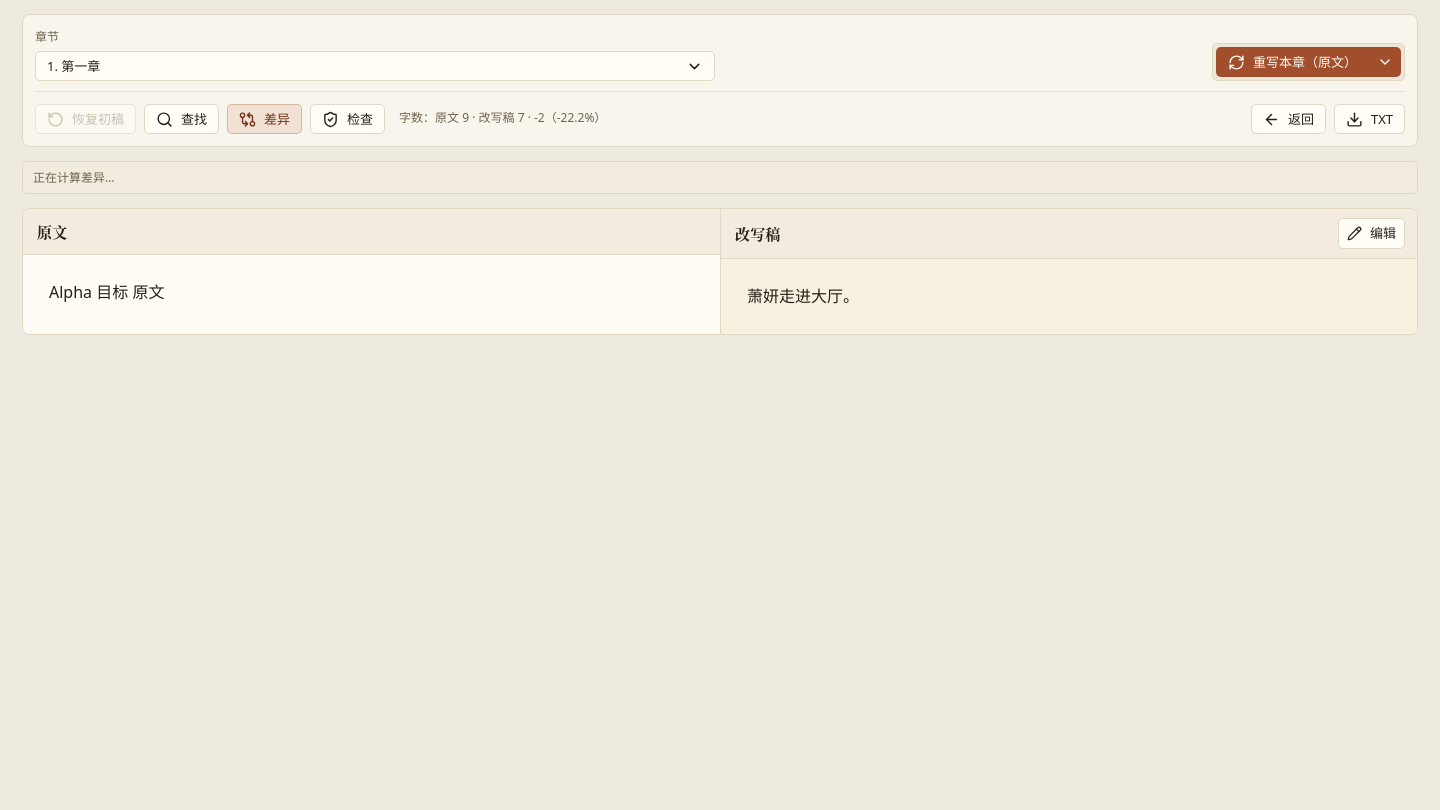
Test: CompareView › updates quality counts while editing the current rewrite
Expected: the button "检查" does not show "1", [310,104,385,134]
Click the button "编辑" at (1372,234), box [1338,218,1405,249]
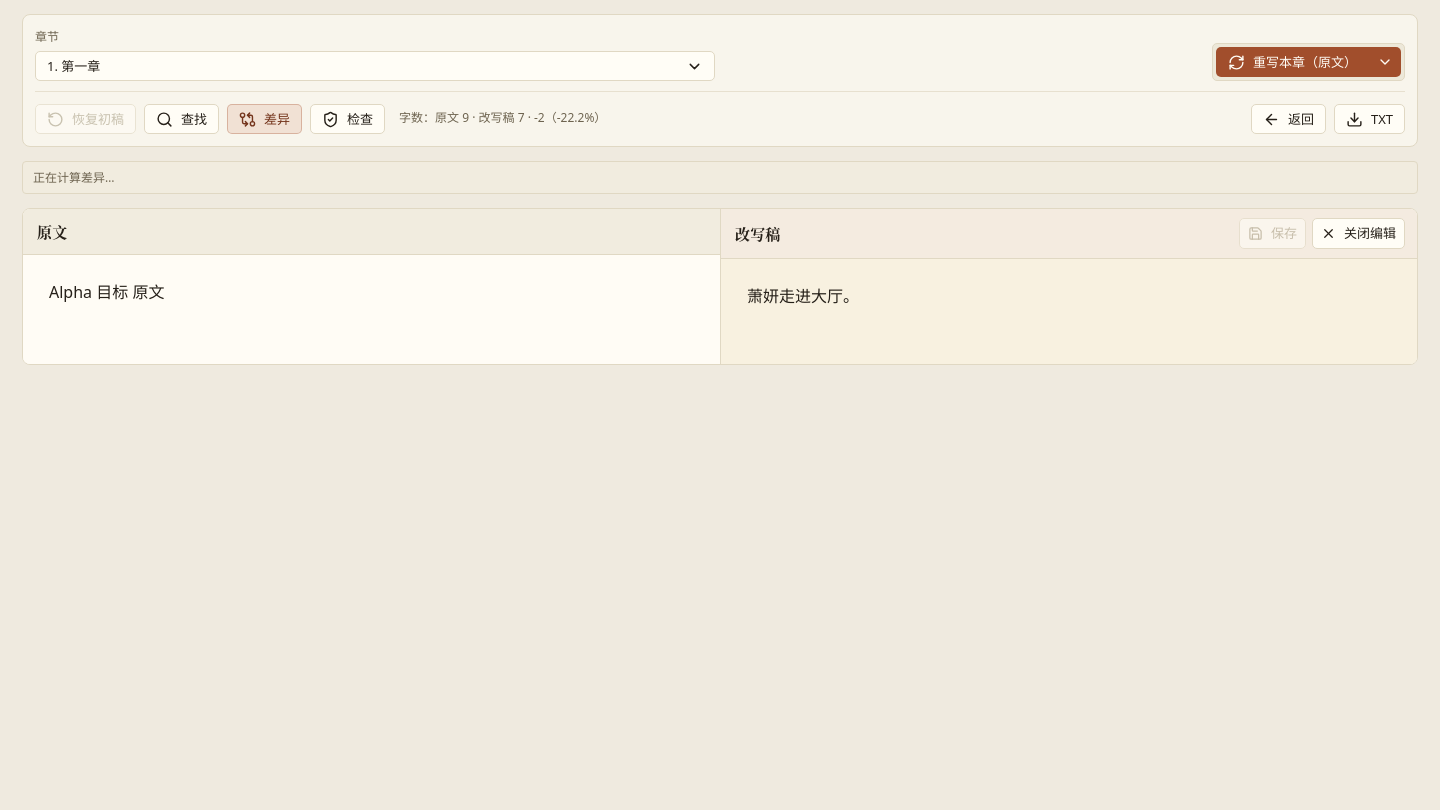
Replace the text in the text box named "编辑改写稿正文" with "萧炎仍然走进大厅。" at (1069,312), box [721,259,1417,364]
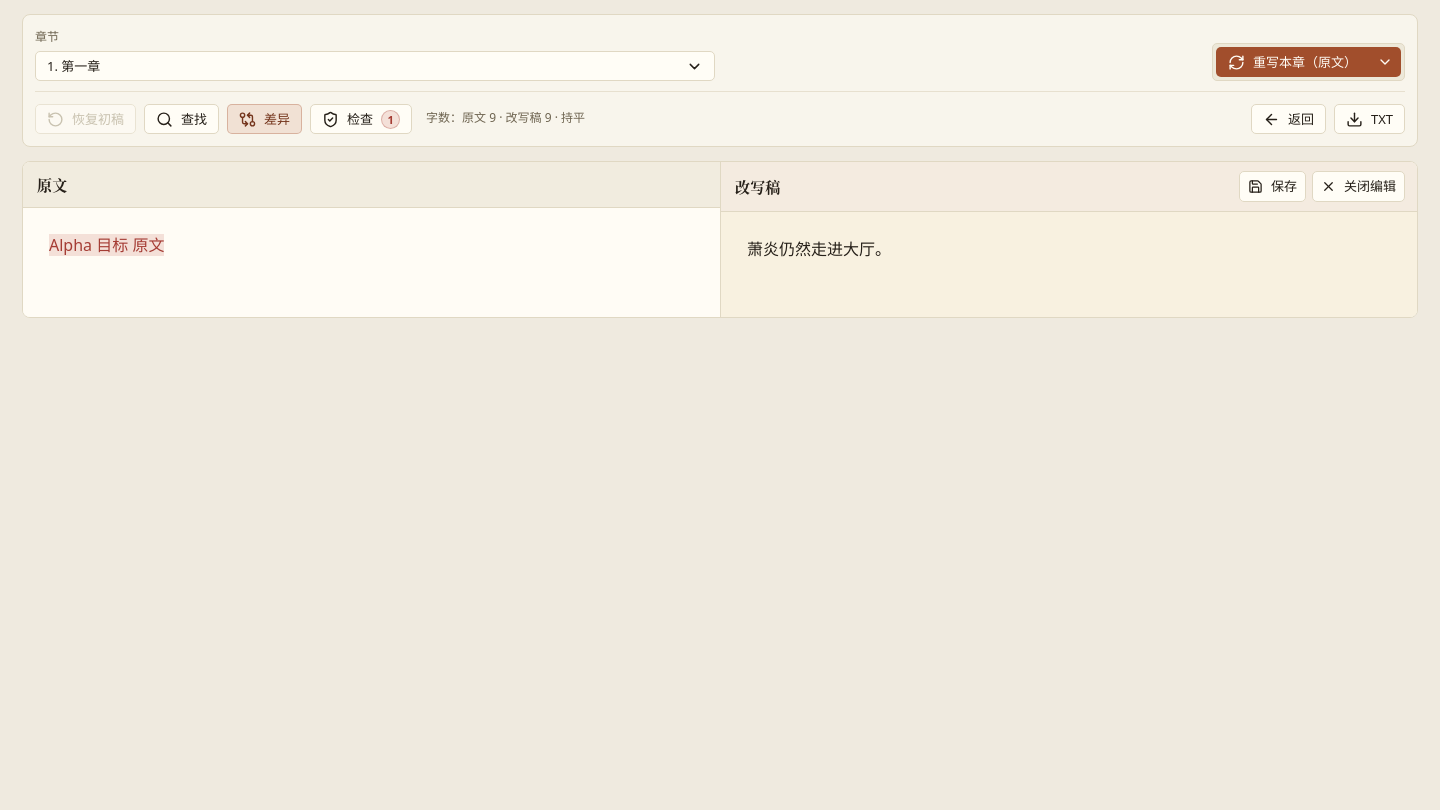
Result: the button "检查 1" is shown
Click the button "检查 1" at (361,119), box [310,104,412,134]
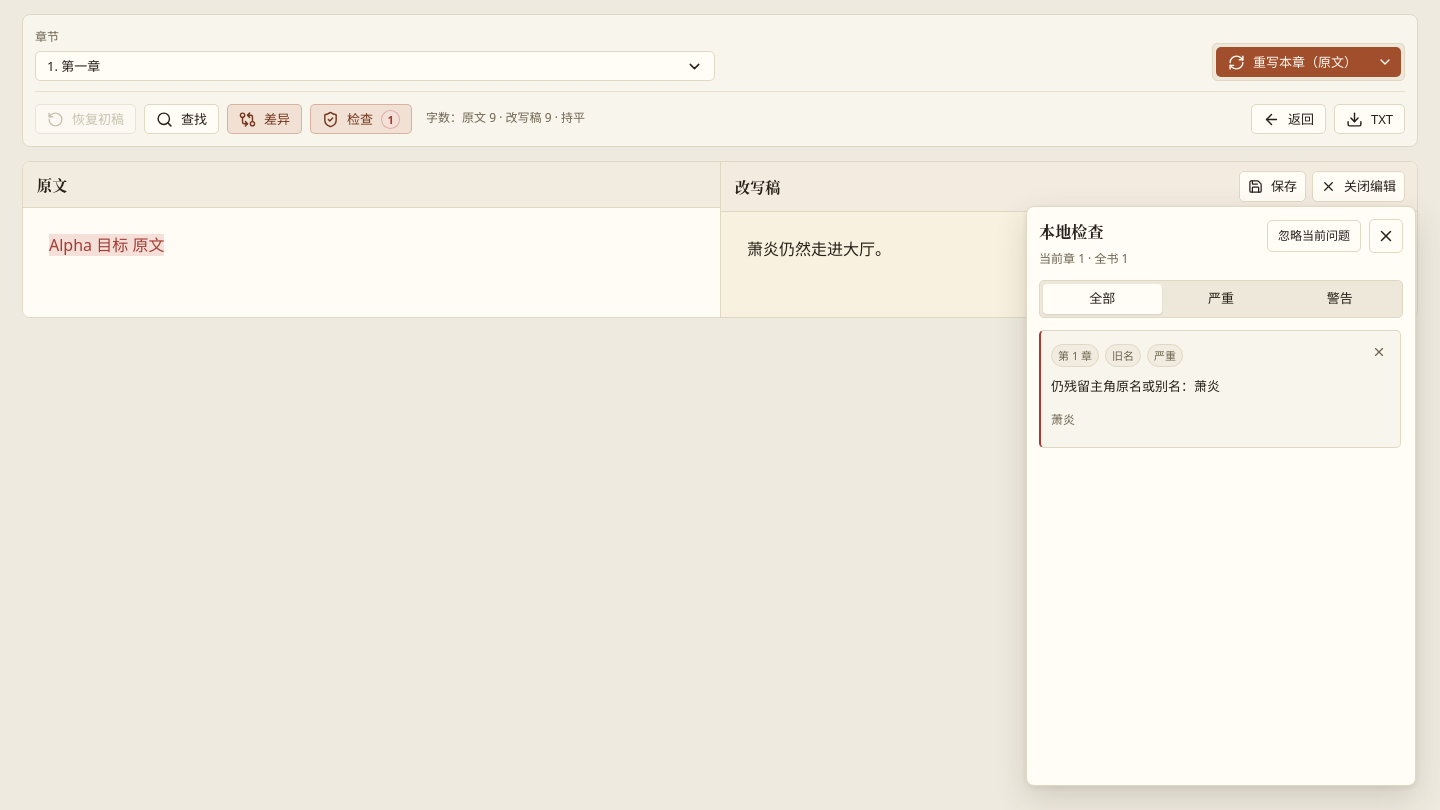
Result: the element named "本地质量检查" shows "当前章 1 · 全书 1" at [1026,206,1416,786]
